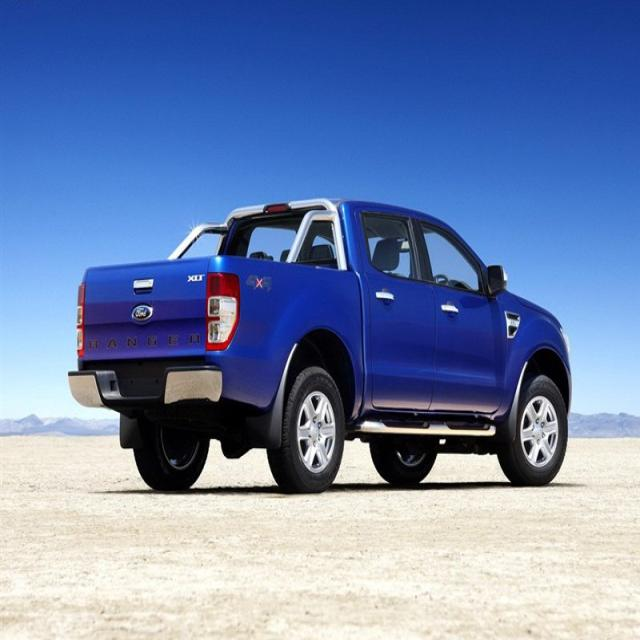back_glass: (238, 215, 337, 268)
back_left_side_light: (74, 280, 88, 358)
back_right_side_light: (205, 269, 242, 353)
door: (350, 206, 432, 418)
front_right_side_door: (418, 212, 506, 420)
front_right_side_mirror: (484, 262, 509, 298)
rear_bumper: (67, 362, 223, 409)
wheel: (269, 368, 343, 482), (509, 378, 566, 476), (134, 422, 208, 494), (371, 435, 438, 483)
